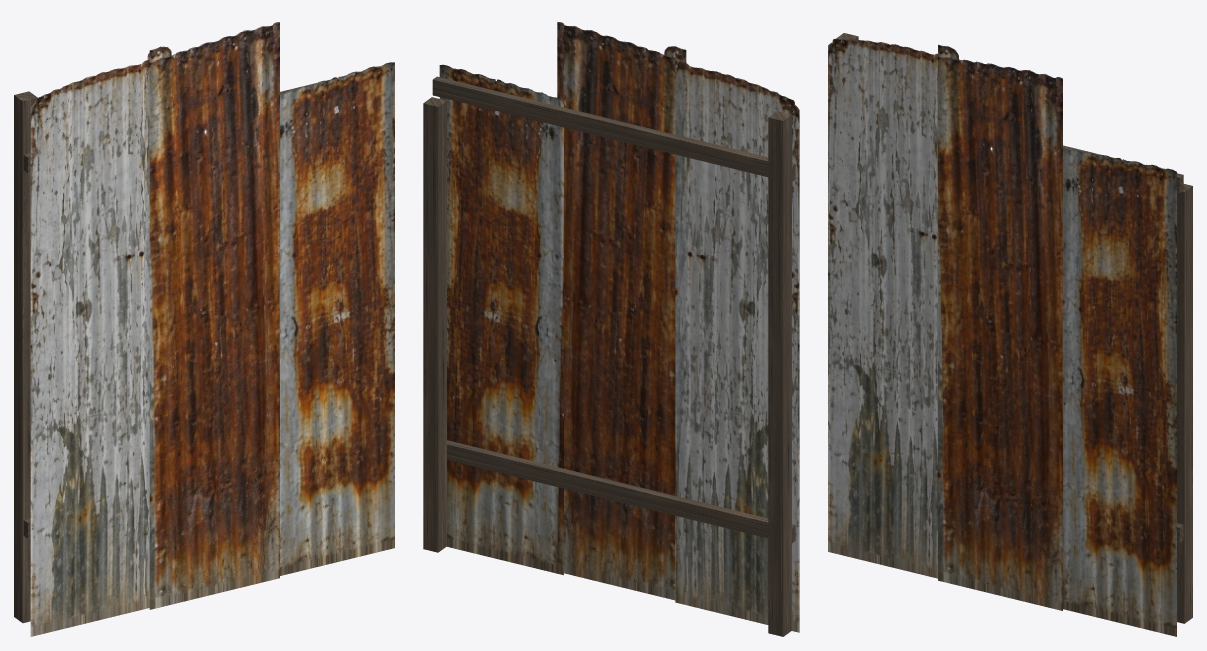
The model's file is pared_zinc_corto_lod2.glb.
3 views of the same model, side by side, from view 1: azimuth 30°, elevation 25°; view 2: azimuth 150°, elevation 25°; view 3: azimuth 330°, elevation 25° (orthographic). The views are drawn at different scales.
Visible parts, largest first — view 1: Pared_Zinc_corto_LOD2; view 2: Pared_Zinc_corto_LOD2; view 3: Pared_Zinc_corto_LOD2.
Boxes of the visible parts, x1=… form: Pared_Zinc_corto_LOD2: x1=14, y1=22, x2=394, y2=636; Pared_Zinc_corto_LOD2: x1=423, y1=22, x2=799, y2=636; Pared_Zinc_corto_LOD2: x1=828, y1=33, x2=1192, y2=636.
Bounding box in the file's own units: 2.4 × 3.55 × 0.213.
Materials: 1 (1 with a texture image).
